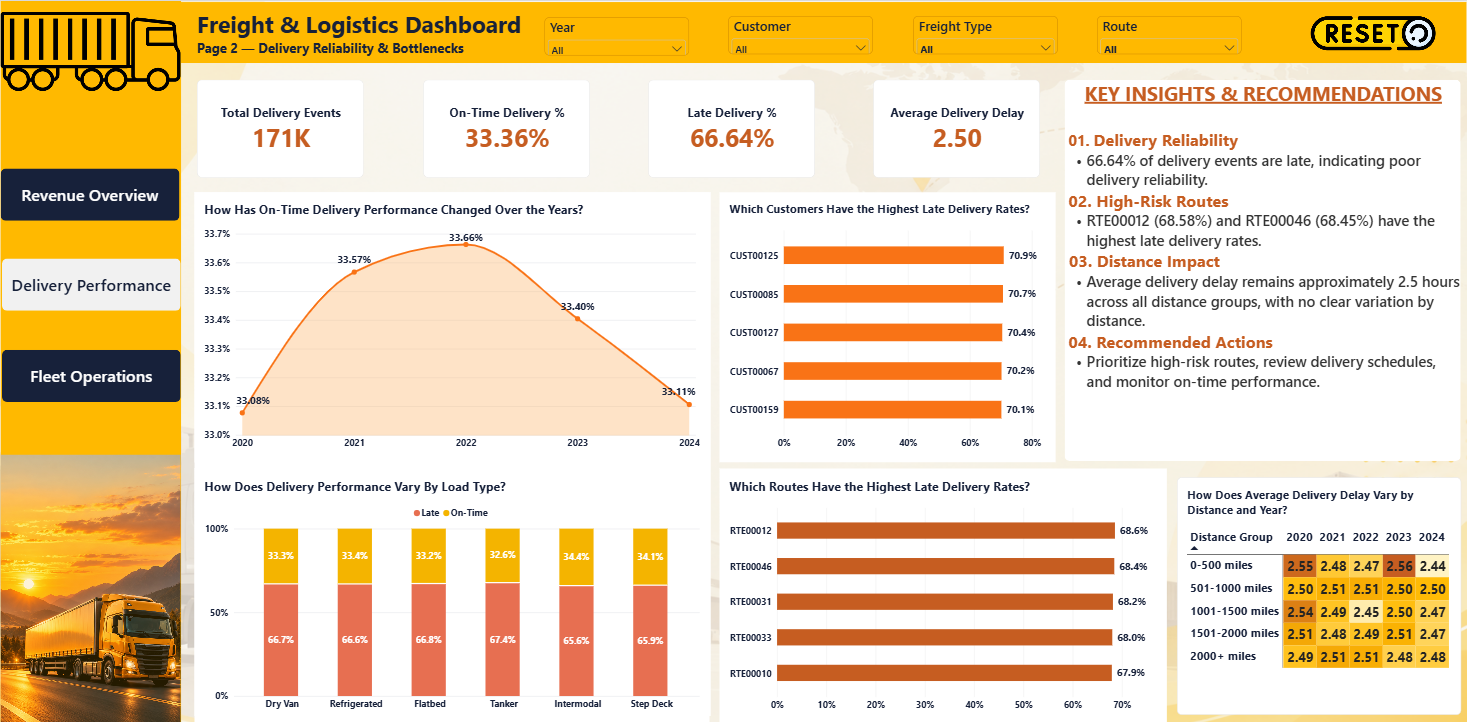

What the dashboard file says about the page in this screenshot:
{"tool":"powerbi","page":{"name":"Delivery Reliability & Bottlenecks","canvas":[2400,1180],"ordinal":1},"visuals":[{"type":"shape","box":[322.4,312.2,842.9,855.1],"z":1000},{"type":"shape","box":[297.9,2.1,2101.1,98.9],"z":2000},{"type":"textbox","box":[326,12,542.9,55.2],"z":3000},{"type":"image","box":[69.7,209,169.4,83.7],"z":4000},{"type":"textbox","box":[326,62,452.8,35],"z":5000},{"type":"slicer","fields":{"Values":["loads.load_date.Variation.Date Hierarchy.Year"]},"box":[894,26,235.9,62.8],"z":6000},{"type":"slicer","fields":{"Values":["customers.customer_name"]},"box":[1194.6,25,235.9,62.8],"z":7000},{"type":"slicer","fields":{"Values":["loads.load_type"]},"box":[1495.2,25,235.9,62.8],"z":8000},{"type":"slicer","fields":{"Values":["routes.route_id"]},"box":[1795.8,25,235.9,62.8],"z":9000},{"type":"shape","box":[6.7,0,294.4,1179.8],"z":10000},{"type":"image","box":[2145.8,18.8,204.2,68.8],"z":11000},{"type":"image","box":[6.2,12.5,293.8,139.6],"z":12000},{"type":"image","box":[6.2,741.7,293.8,437.5],"z":13000},{"type":"actionButton","box":[6.2,272.9,291.7,85.4],"z":14000},{"type":"actionButton","box":[8.3,420.8,291.7,85.4],"z":15000},{"type":"actionButton","box":[8.3,568.8,291.7,85.4],"z":16000},{"type":"areaChart","title":"How Has On-Time Delivery Performance Changed Over the Years? ","fields":{"Category":["loads.load_date.Variation.Date Hierarchy.Year"],"Y":["_measures.On-Time Delivery %"]},"box":[322.4,312.2,840.8,440.8],"z":17000},{"type":"cardVisual","fields":{"Data":["_measures.Average Delivery Delay"]},"box":[1430.6,128.6,272,160],"z":18000},{"type":"cardVisual","fields":{"Data":["_measures.Total Delivery Events"]},"box":[326.5,128.6,272.7,160],"z":19000},{"type":"cardVisual","fields":{"Data":["_measures.On-Time Delivery %"]},"box":[695,128.6,272,160],"z":20000},{"type":"cardVisual","fields":{"Data":["_measures.Late Delivery %"]},"box":[1062.8,128.6,272,160],"z":21000},{"type":"hundredPercentStackedColumnChart","title":"How Does Delivery Performance Vary By Load Type?","fields":{"Category":["loads.load_type"],"Series":["delivery_events.Delivery Status"],"Y":["_measures.Total Delivery Events"]},"box":[322.4,763.7,840.8,416.3],"z":22000},{"type":"clusteredBarChart","title":"Which Customers Have the Highest Late Delivery Rates?","fields":{"Category":["customers.customer_id"],"Y":["_measures.Late Delivery %"]},"box":[1179.6,312.2,549,440.8],"z":23000},{"type":"clusteredBarChart","title":"Which Routes Have the Highest Late Delivery Rates?","fields":{"Category":["routes.route_id"],"Y":["_measures.Late Delivery %"]},"box":[1179.6,763.7,730.6,416.3],"z":24000},{"type":"pivotTable","title":"How Does Average Delivery Delay Vary by Distance and Year?","fields":{"Columns":["loads.load_date.Variation.Date Hierarchy.Year"],"Rows":["trips.Distance Group"],"Values":["_measures.Average Delivery Delay"]},"box":[1926,778,464,388],"z":25000},{"type":"shape","box":[1742.9,128.6,646.9,622.4],"z":26000},{"type":"textbox","box":[1742.9,128.6,649,612.2],"z":27000}]}

Visuals, with their boxes in screenshot pixels (x1, y1, x2, y2), scaled from the page's 2400x1180 canvas onto the 1467x722 screenshot:
shape: 197, 191, 712, 714
shape: 182, 1, 1466, 62
textbox: 199, 7, 531, 41
image: 43, 128, 146, 179
textbox: 199, 38, 476, 59
slicer - loads.load_date.Variation.Date Hierarchy.Year: 546, 16, 691, 54
slicer - customers.customer_name: 730, 15, 874, 54
slicer - loads.load_type: 914, 15, 1058, 54
slicer - routes.route_id: 1098, 15, 1242, 54
shape: 4, 0, 184, 721
image: 1312, 12, 1436, 54
image: 4, 8, 183, 93
image: 4, 454, 183, 721
actionButton: 4, 167, 182, 219
actionButton: 5, 257, 183, 310
actionButton: 5, 348, 183, 400
"How Has On-Time Delivery Performance Changed Over the Years? " areaChart: 197, 191, 711, 461
cardVisual - _measures.Average Delivery Delay: 874, 79, 1041, 177
cardVisual - _measures.Total Delivery Events: 200, 79, 366, 177
cardVisual - _measures.On-Time Delivery %: 425, 79, 591, 177
cardVisual - _measures.Late Delivery %: 650, 79, 816, 177
"How Does Delivery Performance Vary By Load Type?" hundredPercentStackedColumnChart: 197, 467, 711, 721
"Which Customers Have the Highest Late Delivery Rates?" clusteredBarChart: 721, 191, 1057, 461
"Which Routes Have the Highest Late Delivery Rates?" clusteredBarChart: 721, 467, 1168, 721
"How Does Average Delivery Delay Vary by Distance and Year?" pivotTable: 1177, 476, 1461, 713
shape: 1065, 79, 1461, 460
textbox: 1065, 79, 1462, 453
